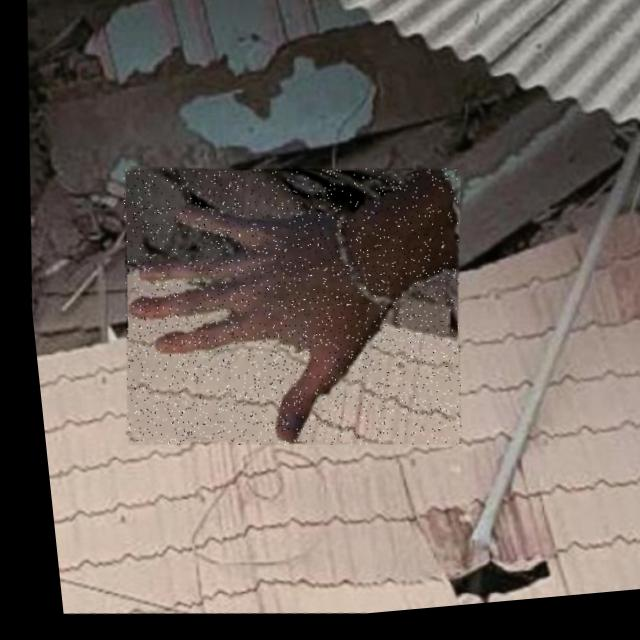Person in Rubble: (95, 147, 475, 475)
